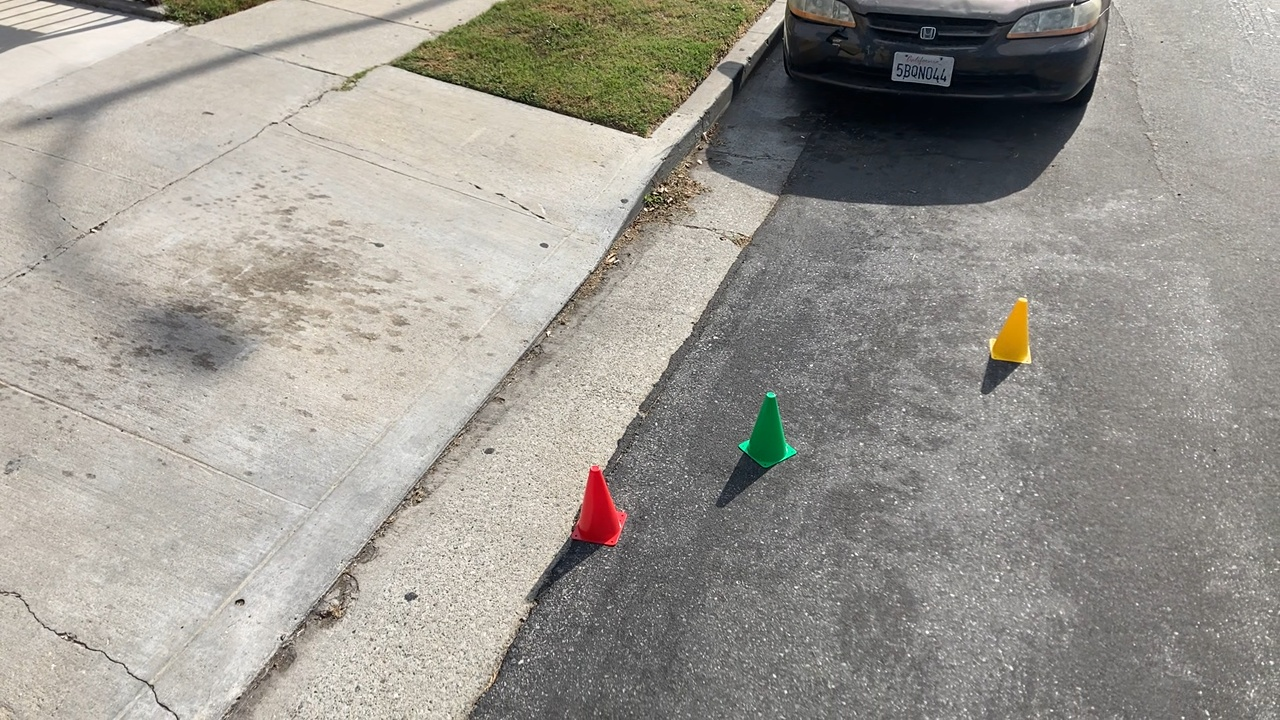green_cone: (737, 389, 798, 471)
red_cone: (566, 463, 626, 551)
yellow_cone: (988, 293, 1037, 368)
